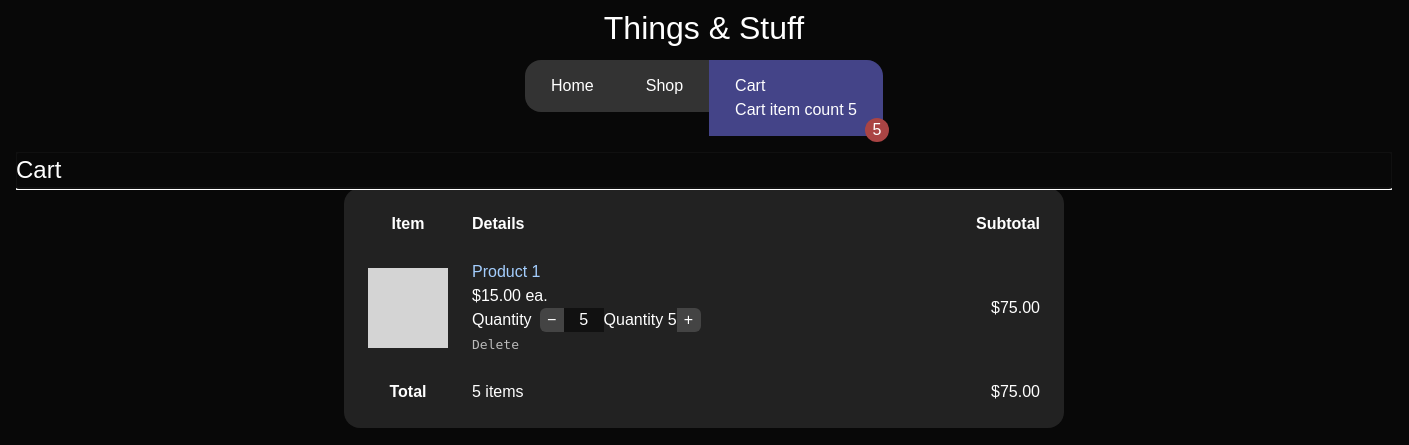
Test: Quantity input › has a value of 1 if cleared
This screenshot has width=1409, height=445.
Clear the number field labelled "Quantity" at (584, 320), box [564, 308, 604, 332]
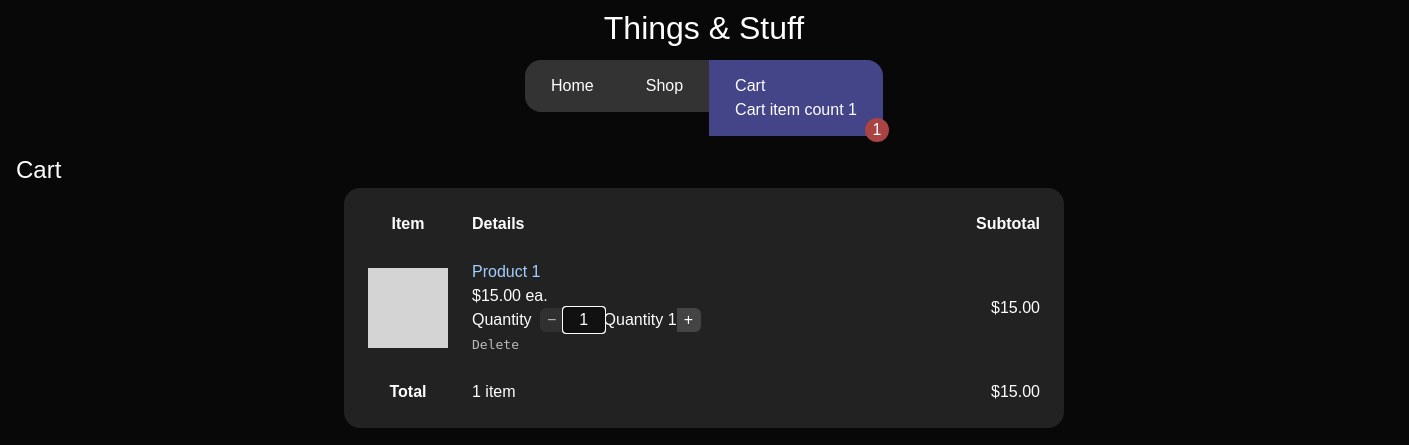
Expected: the number field labelled "Quantity" holds "1", [564, 308, 604, 332]
